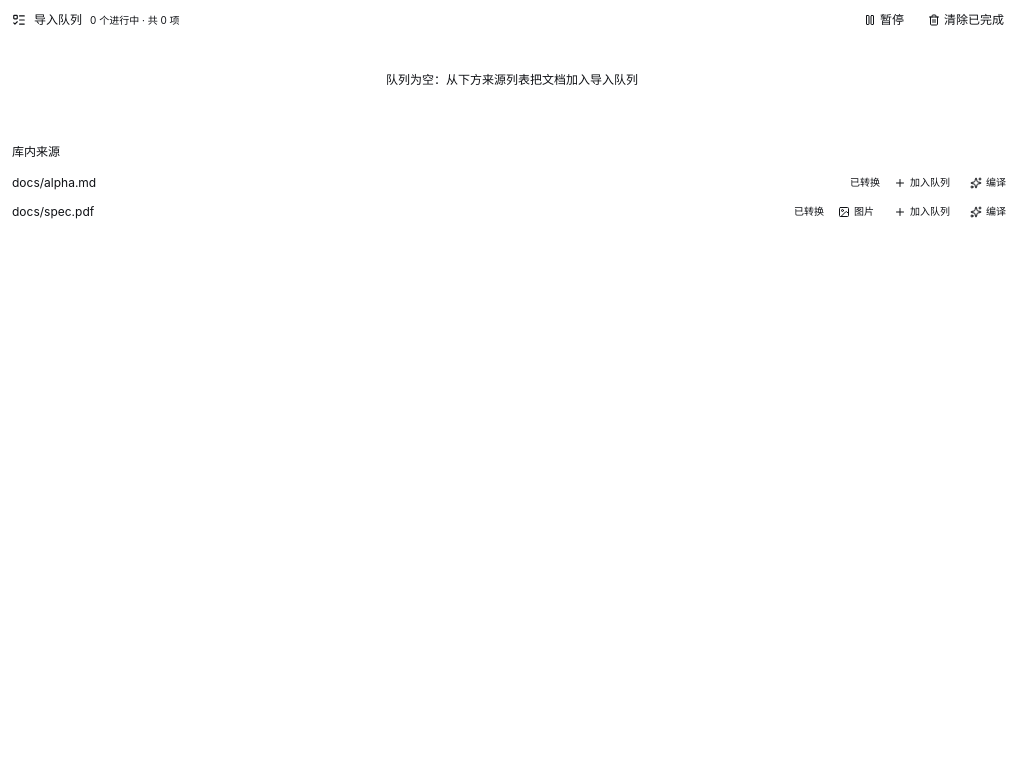
Test: KbWikiTasks PDF 资产面板（issue 11） › 失败解读提供「重试本图」：只重做该图并刷新显示（含 usage）
Check: the text "docs/spec.pdf" is shown, box [12, 204, 94, 219]
Click the button titled "查看 PDF 图像资产": (856, 212) [832, 203, 880, 221]
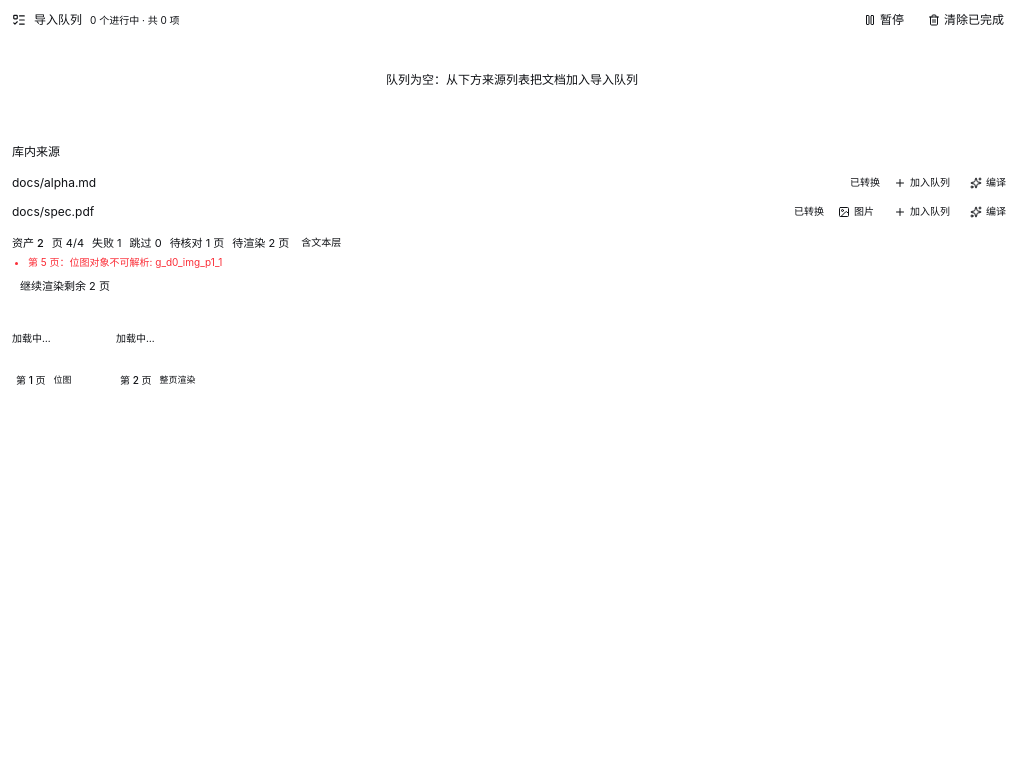
Click the button "加载中… 第 1 页 位图": (60, 348) [12, 307, 108, 390]
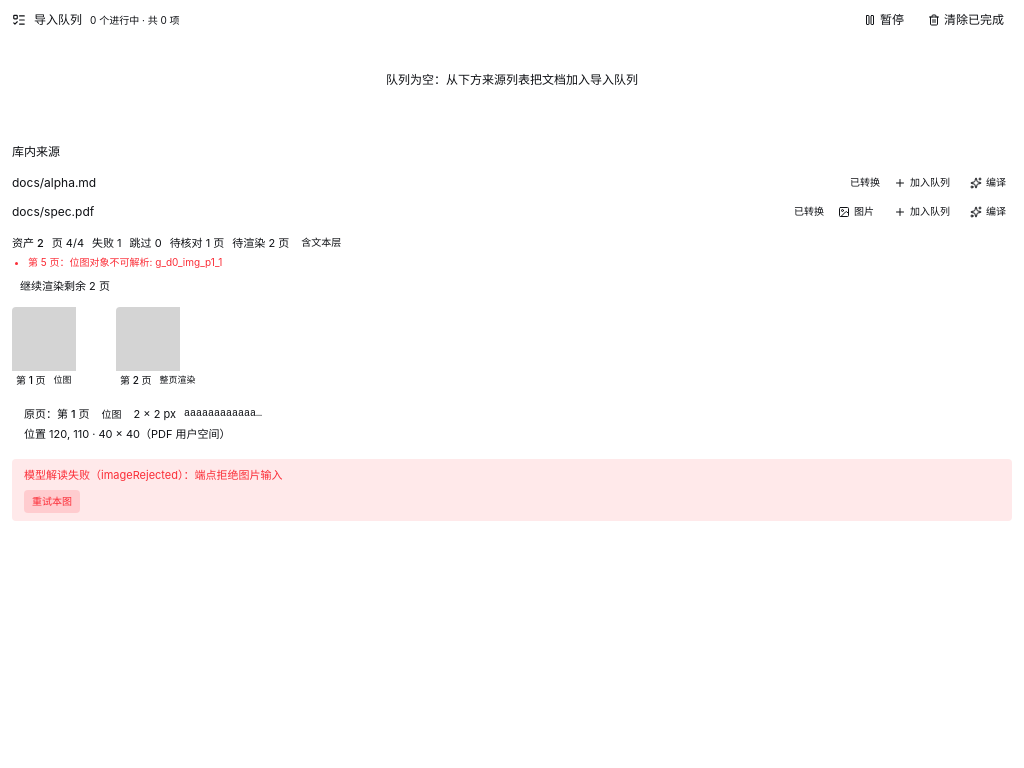
// 失败面板给出单图重试入口
Click the button with test id "retry-vision-asset": (52, 501) [24, 490, 80, 513]
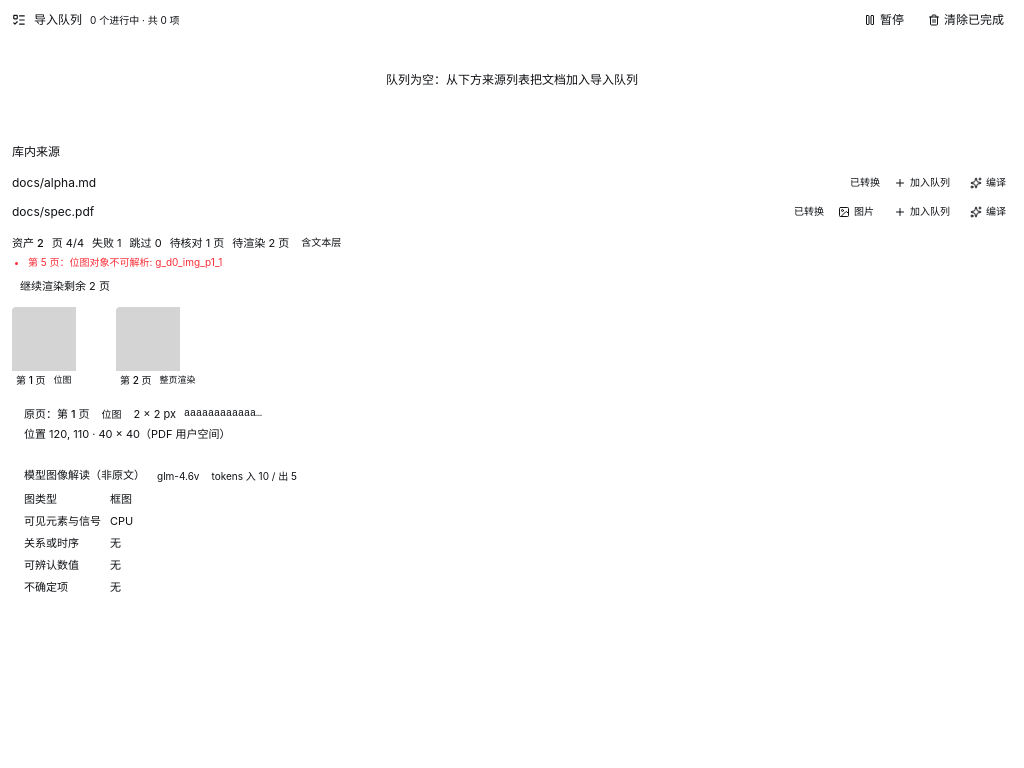
Check: the element with test id "vision-interpretation" is shown, box [24, 468, 297, 594]
Check: the text "框图" is shown, box [110, 492, 132, 506]
Check: the text "tokens 入 10 / 出 5" is shown, box [212, 468, 297, 484]
